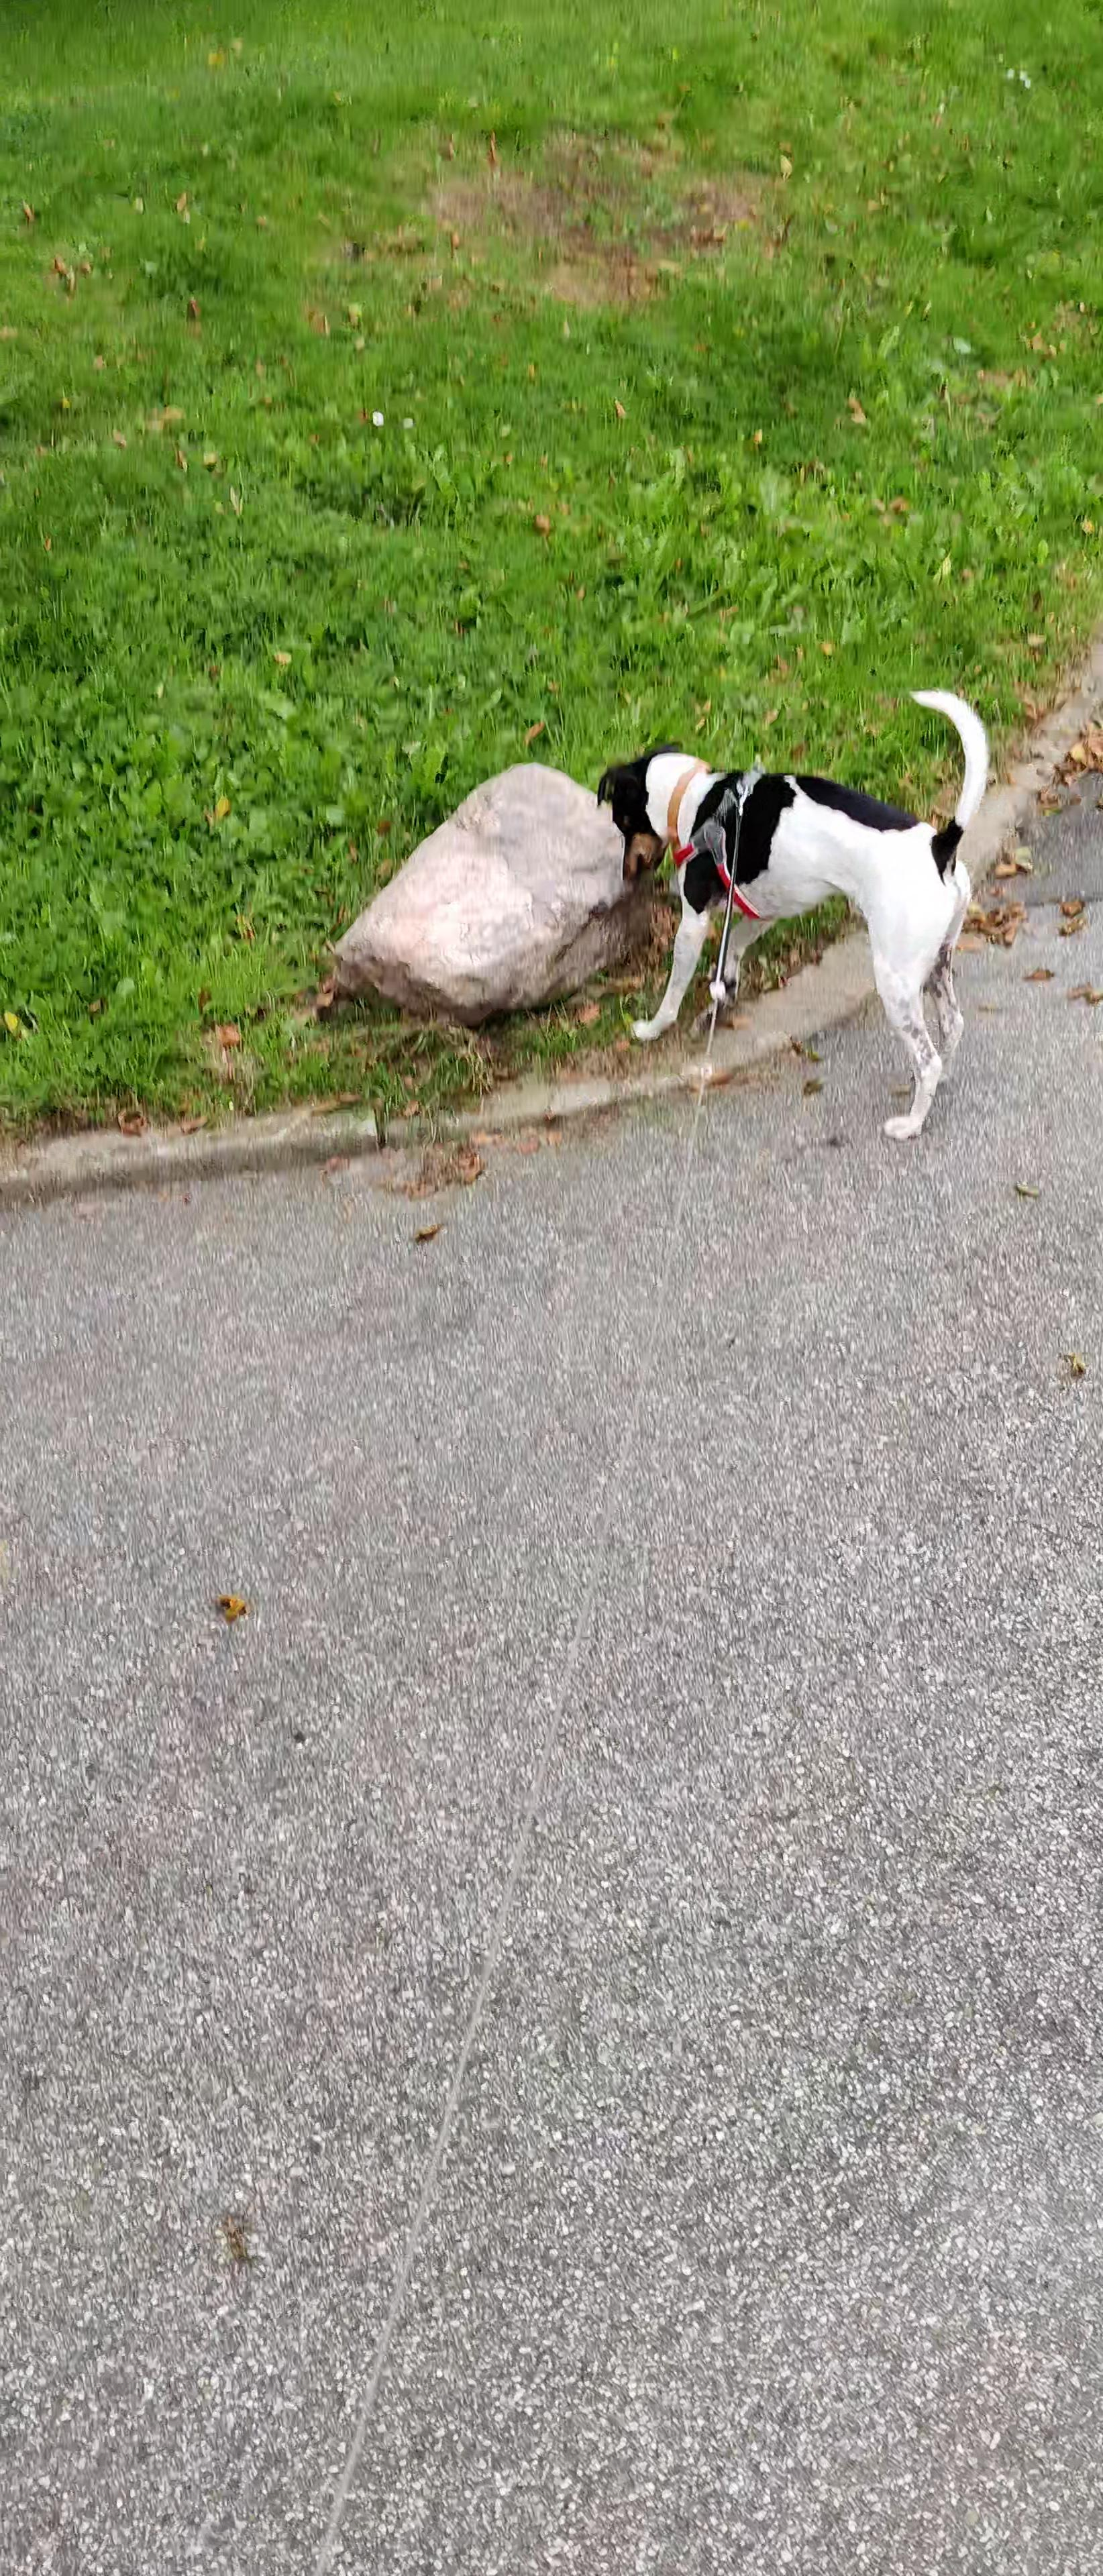Dog: (590, 654, 1003, 1155)
